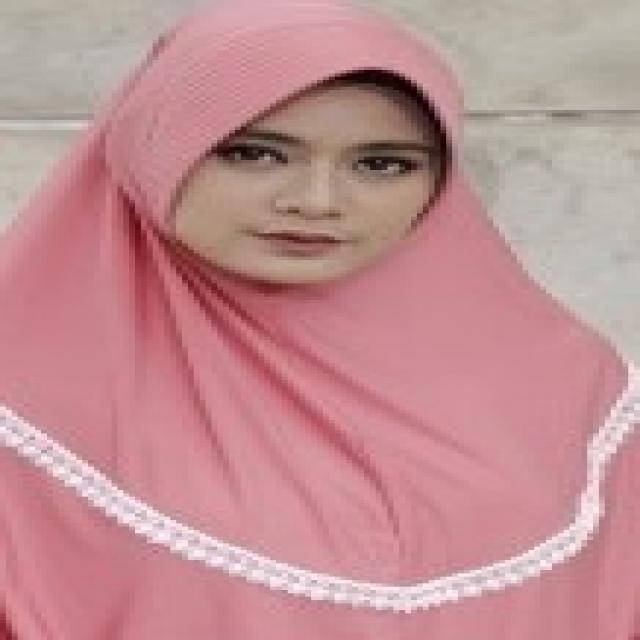head: (83, 7, 476, 287)
